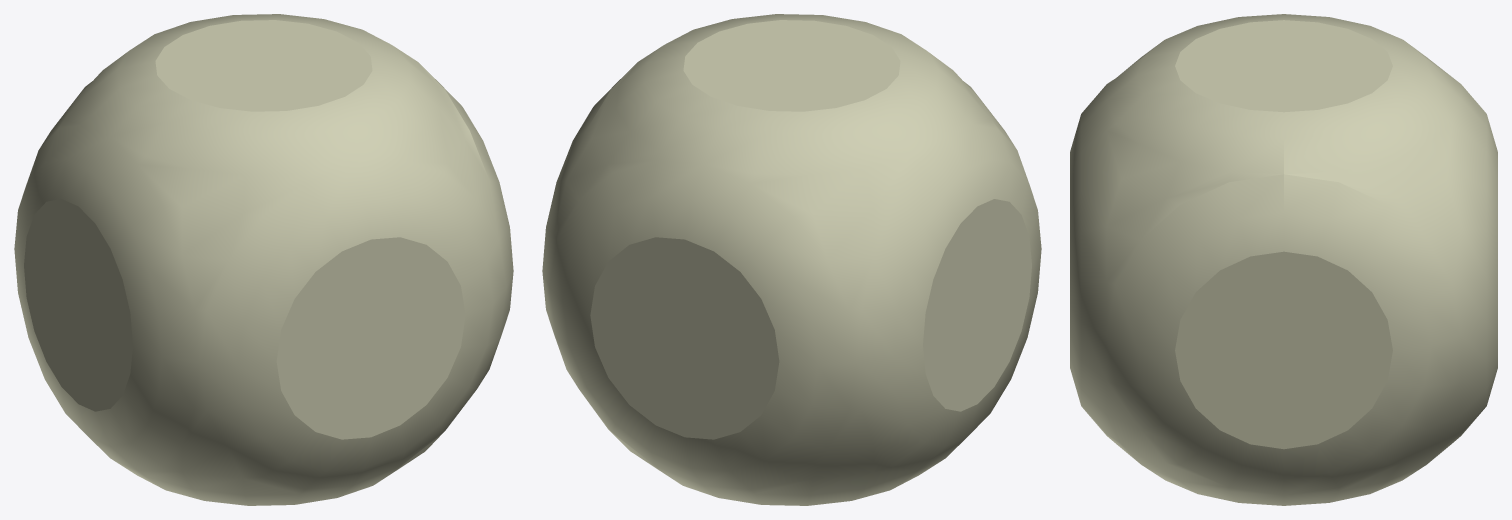
Rendered from SM_RelicSphere.fbx.
The picture shows the model from 3 angles, left to right: view 1: azimuth 30°, elevation 25°; view 2: azimuth 150°, elevation 25°; view 3: azimuth 270°, elevation 25°; orthographic projection.
Parts seen in each view (by area): view 1: SM_BlueRelicSphere; view 2: SM_BlueRelicSphere; view 3: SM_BlueRelicSphere.
Boxes of the visible parts, x1=… form: SM_BlueRelicSphere: x1=14, y1=14, x2=513, y2=505; SM_BlueRelicSphere: x1=542, y1=14, x2=1041, y2=505; SM_BlueRelicSphere: x1=1070, y1=14, x2=1497, y2=505.
Size of the model in its own units: 37.99 by 37.99 by 37.99.
